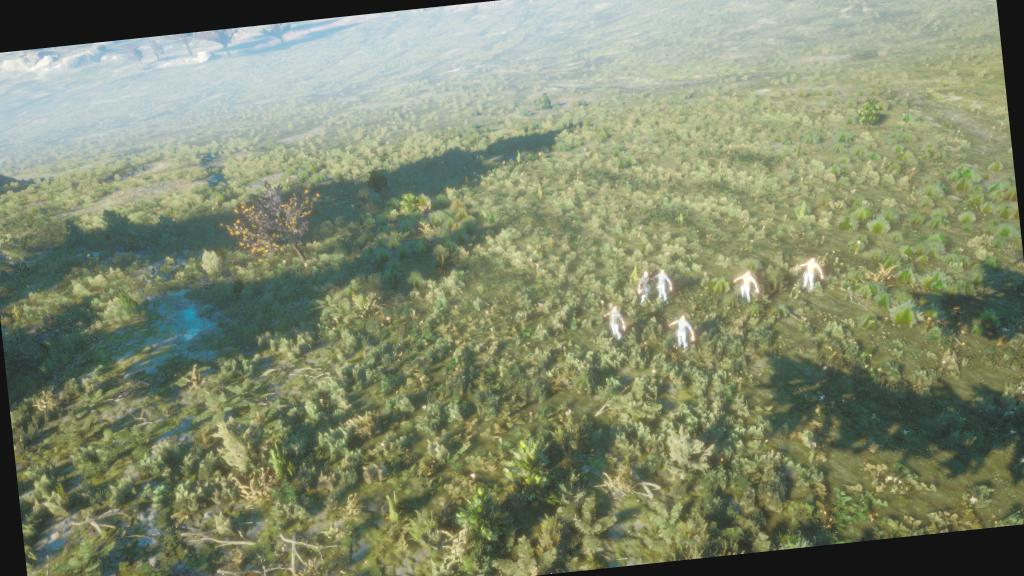human: (625, 254, 683, 314), (784, 235, 832, 307), (662, 308, 710, 359), (595, 298, 637, 356), (730, 257, 768, 310)
